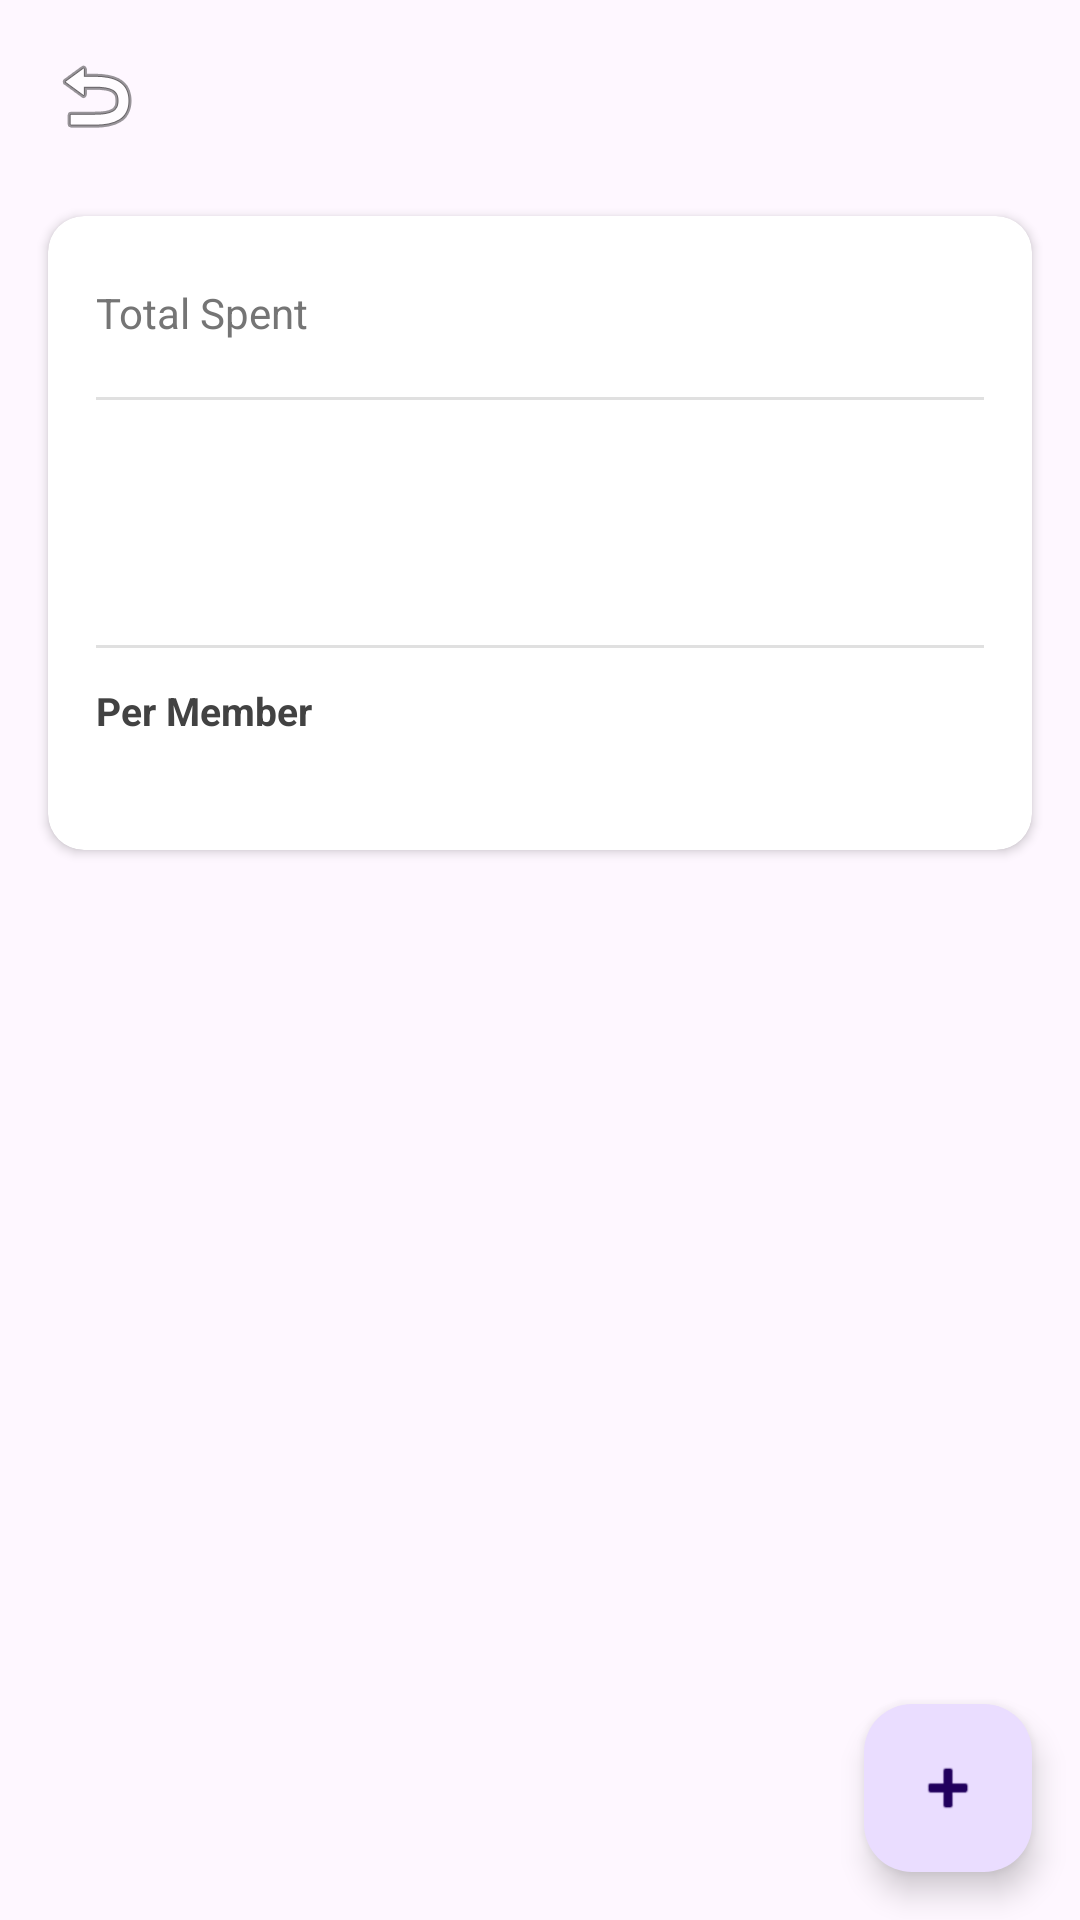

Locate icon controls on the screen. Image size 1080 x 1920, boxes as region(x1, y1, x2, y2).
Add Expense: region(864, 1704, 1032, 1872)
Back: region(63, 65, 132, 128)
